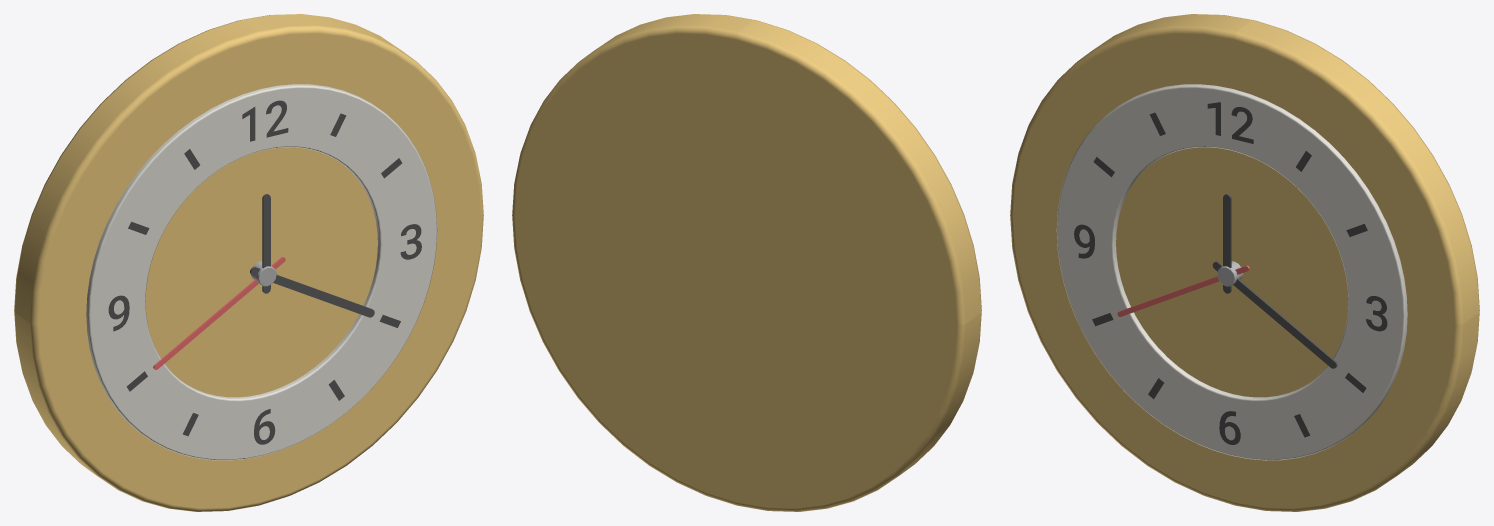
The model's file is clock2.glb.
3 views of the same model, side by side, from view 1: azimuth 30°, elevation 25°; view 2: azimuth 150°, elevation 25°; view 3: azimuth 330°, elevation 25° (orthographic).
Parts seen in each view (by area): view 1: clock-base, clock-base2, time number, Rectangle 4 (×3); view 2: clock-base; view 3: clock-base, clock-base2, time number, Rectangle 4 (×3).
Part boxes in pixels (box(x1,y1,x2,y2)): clock-base: box(14, 14, 483, 511); clock-base2: box(86, 84, 437, 460); time number: box(108, 100, 421, 444); Rectangle 4 (×3): box(153, 194, 374, 369); clock-base: box(512, 14, 981, 511); clock-base: box(1010, 14, 1479, 511); clock-base2: box(1056, 84, 1407, 460); time number: box(1074, 102, 1387, 444); Rectangle 4 (×3): box(1117, 194, 1337, 368).
Bounding box in the file's own units: 0.9796 × 0.9796 × 0.112.
